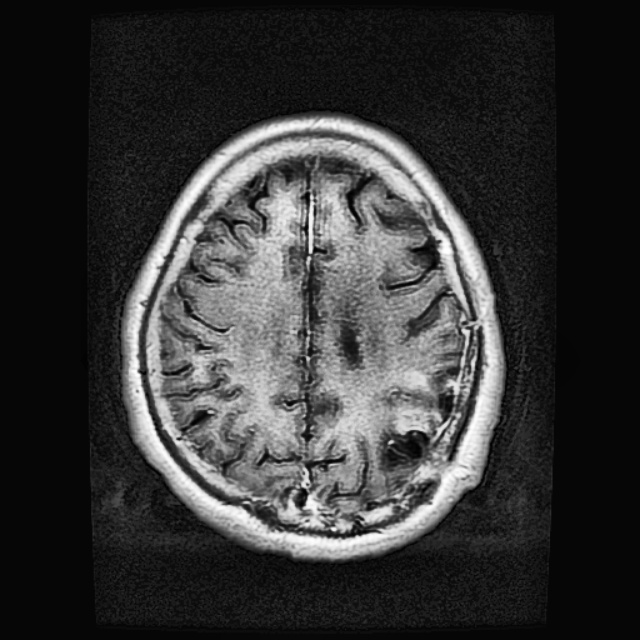Glioma: (378, 370, 458, 498)
